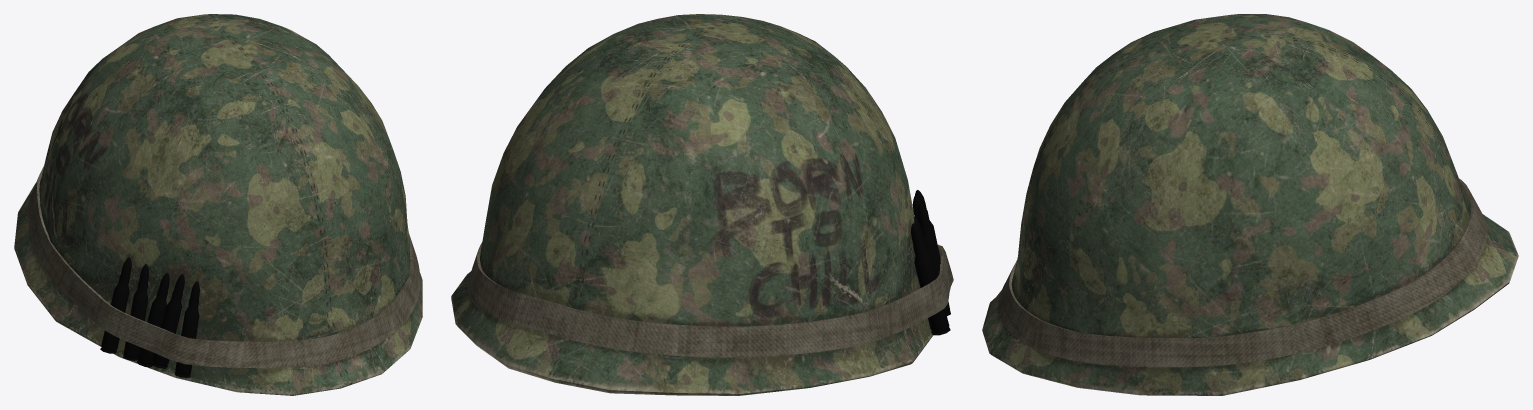
File: helmet_m1.glb
The picture shows the model from 3 angles, left to right: view 1: azimuth 30°, elevation 25°; view 2: azimuth 150°, elevation 25°; view 3: azimuth 270°, elevation 25°; orthographic projection. The views are drawn at different scales.
Visible parts, largest first — view 1: helmet_m1_0, helmet_m1_1, helmet_m1_2; view 2: helmet_m1_0, helmet_m1_1, helmet_m1_2; view 3: helmet_m1_0, helmet_m1_1.
Boxes of the visible parts, bbox=[...] form: helmet_m1_0: bbox=[14, 14, 422, 395]; helmet_m1_1: bbox=[28, 166, 420, 368]; helmet_m1_2: bbox=[100, 257, 199, 377]; helmet_m1_0: bbox=[451, 14, 932, 395]; helmet_m1_1: bbox=[467, 242, 953, 357]; helmet_m1_2: bbox=[911, 190, 950, 335]; helmet_m1_0: bbox=[982, 14, 1518, 395]; helmet_m1_1: bbox=[998, 178, 1488, 367].
Size of the model in its own units: 0.2302 by 0.1694 by 0.2756.
Materials: 3 (2 with a texture image).
